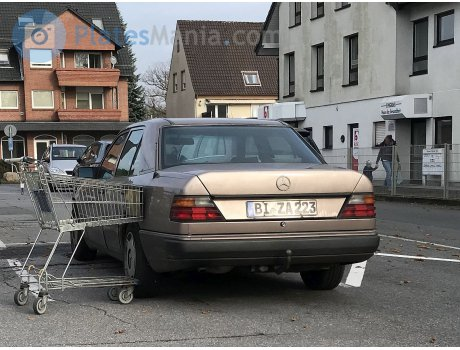License Plates: (247, 201, 314, 215)
